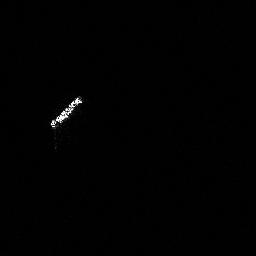ship: (50, 97, 83, 128)
